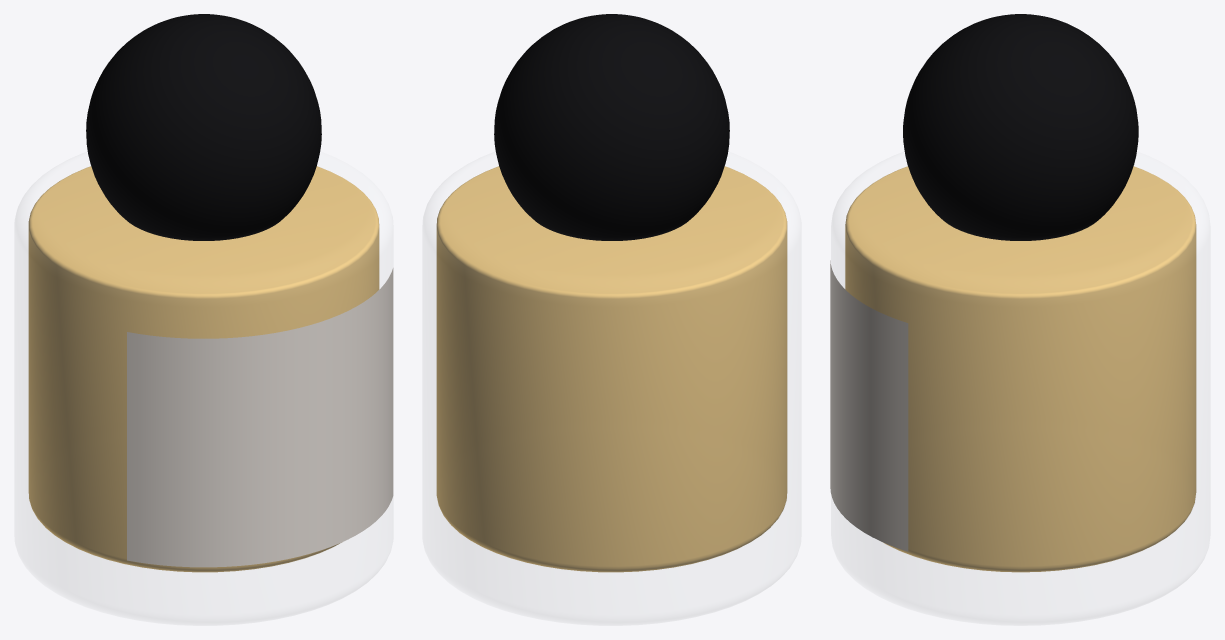
File: crash_mobile.glb
3 views of the same model, side by side, from view 1: azimuth 30°, elevation 25°; view 2: azimuth 150°, elevation 25°; view 3: azimuth 270°, elevation 25° (orthographic).
Parts seen in each view (by area): view 1: xelle_fragrance_liquid, xelle_front_label, xelle_spherical_black_cap; view 2: xelle_fragrance_liquid, xelle_spherical_black_cap; view 3: xelle_fragrance_liquid, xelle_spherical_black_cap, xelle_front_label.
Boxes of the visible parts, x1,y1,x2,y2 form: xelle_fragrance_liquid: (28, 166, 379, 572); xelle_front_label: (127, 268, 393, 567); xelle_spherical_black_cap: (86, 14, 321, 240); xelle_fragrance_liquid: (436, 166, 787, 572); xelle_spherical_black_cap: (494, 14, 729, 240); xelle_fragrance_liquid: (845, 166, 1196, 572); xelle_spherical_black_cap: (903, 14, 1138, 240); xelle_front_label: (830, 260, 908, 551).
Size of the model in its own units: 2.35 by 3.6 by 2.35.
Materials: 5 (1 with a texture image).
